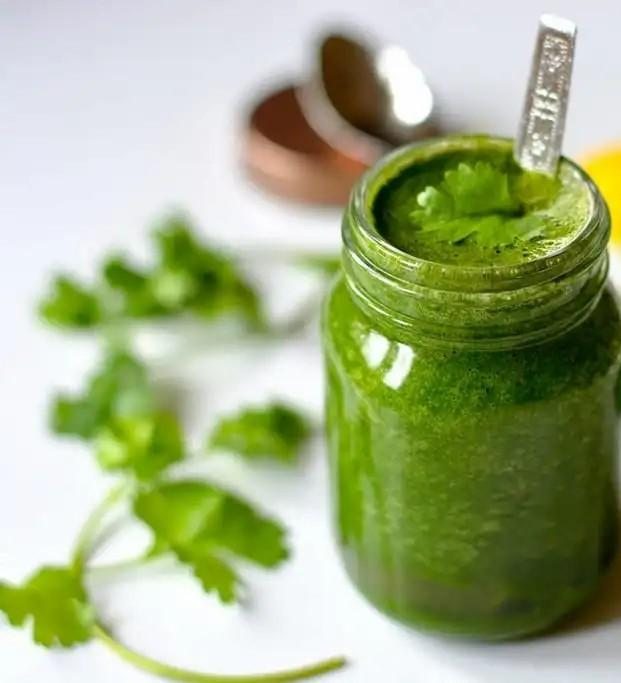GreenChutney: (322, 146, 621, 640)
